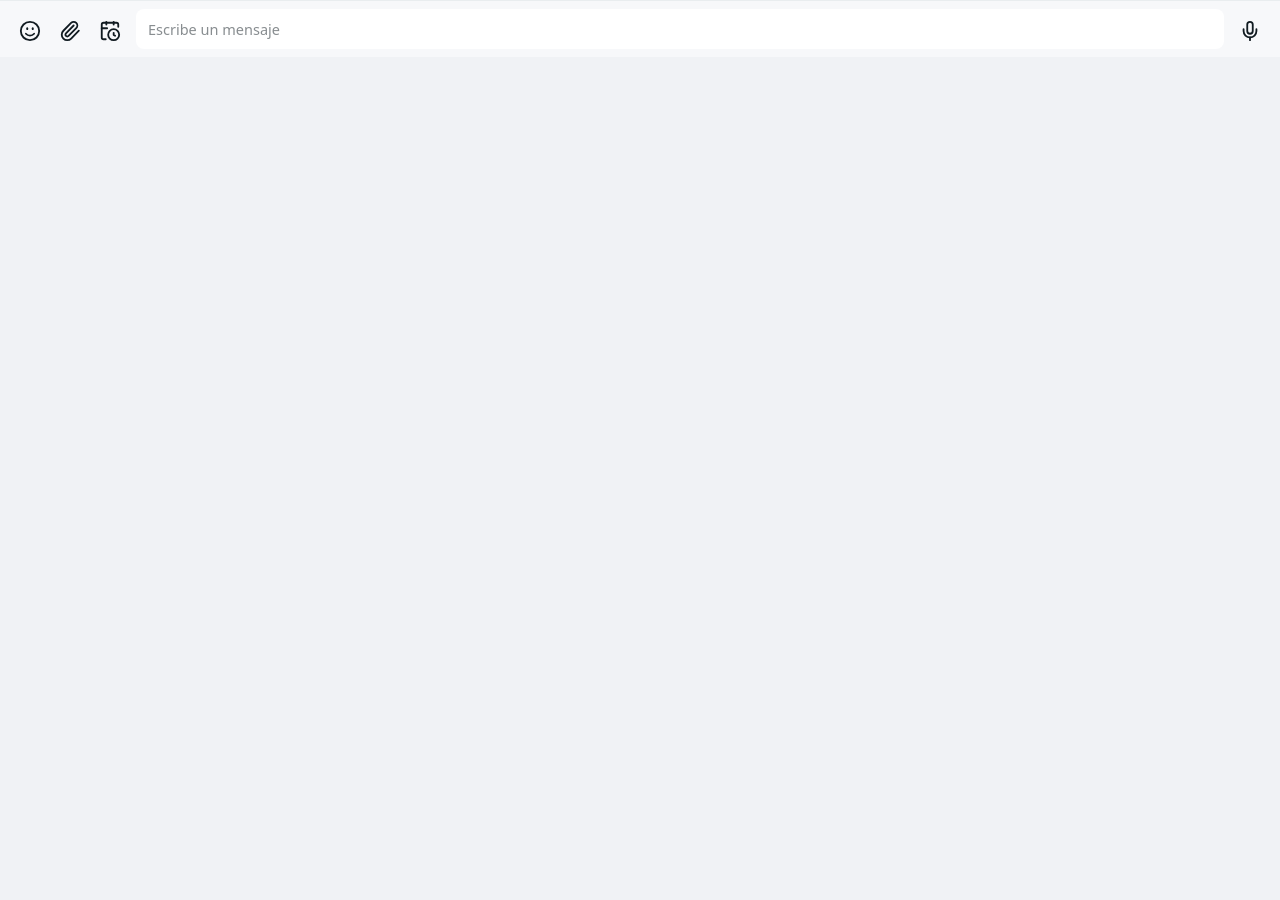
Test case: botón «Programar» del compositor › programa lo escrito: el diálogo trae el texto y el borrador se vacía al guardar
The width and height of the screenshot is (1280, 900).
Step 1. Type "Recuérdame mañana" into the text box with placeholder "Escribe un mensaje" → (680, 29), box x1=136 y1=9 x2=1224 y2=49
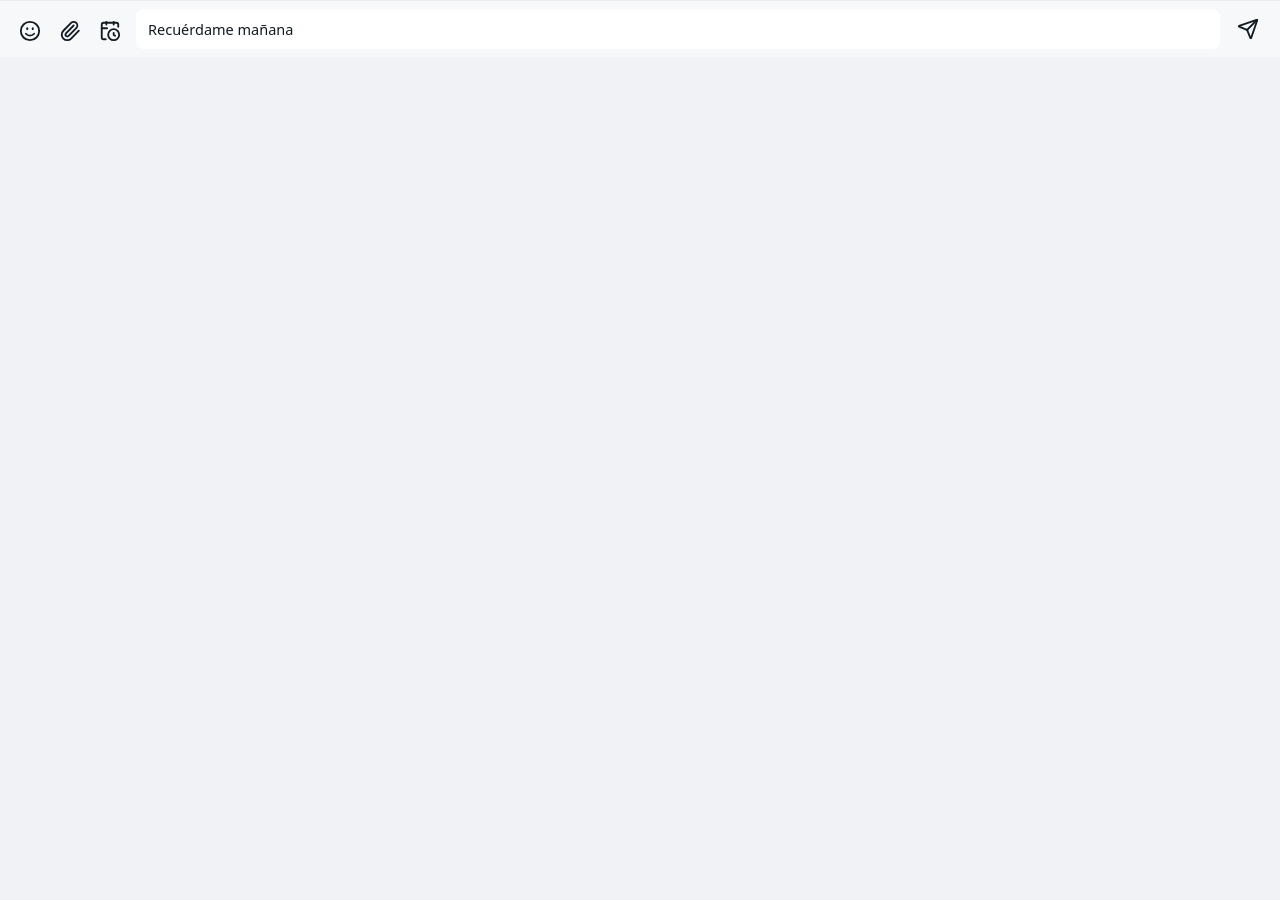
Step 2. Click the button named "Programar mensaje" → (110, 31), box x1=92 y1=13 x2=128 y2=49
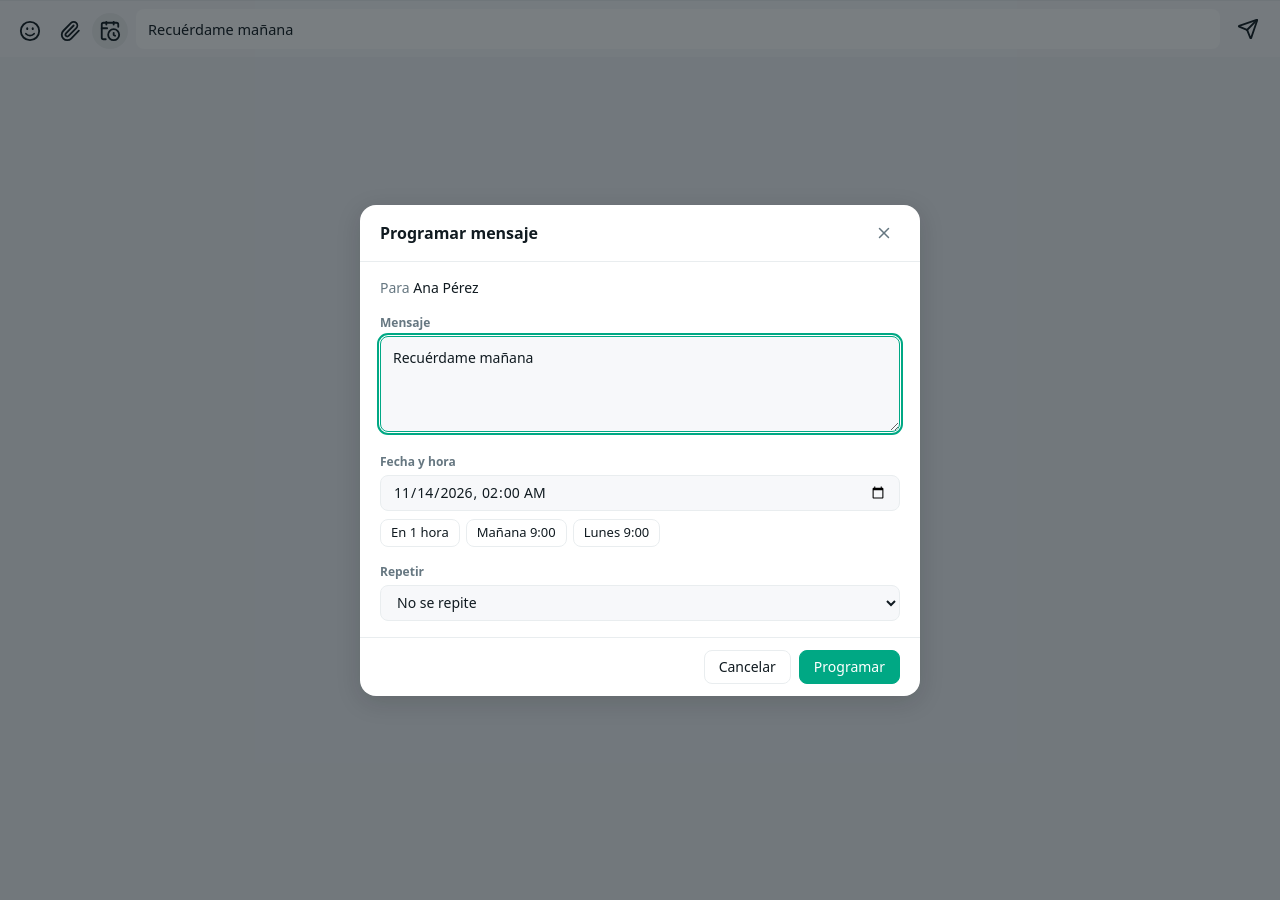
Check: the text box labelled "Mensaje" holds "Recuérdame mañana", box x1=380 y1=336 x2=900 y2=432
Step 3. Replace the text in the field labelled "Fecha y hora" with "2099-01-05T09:00" → (640, 492), box x1=380 y1=474 x2=900 y2=510
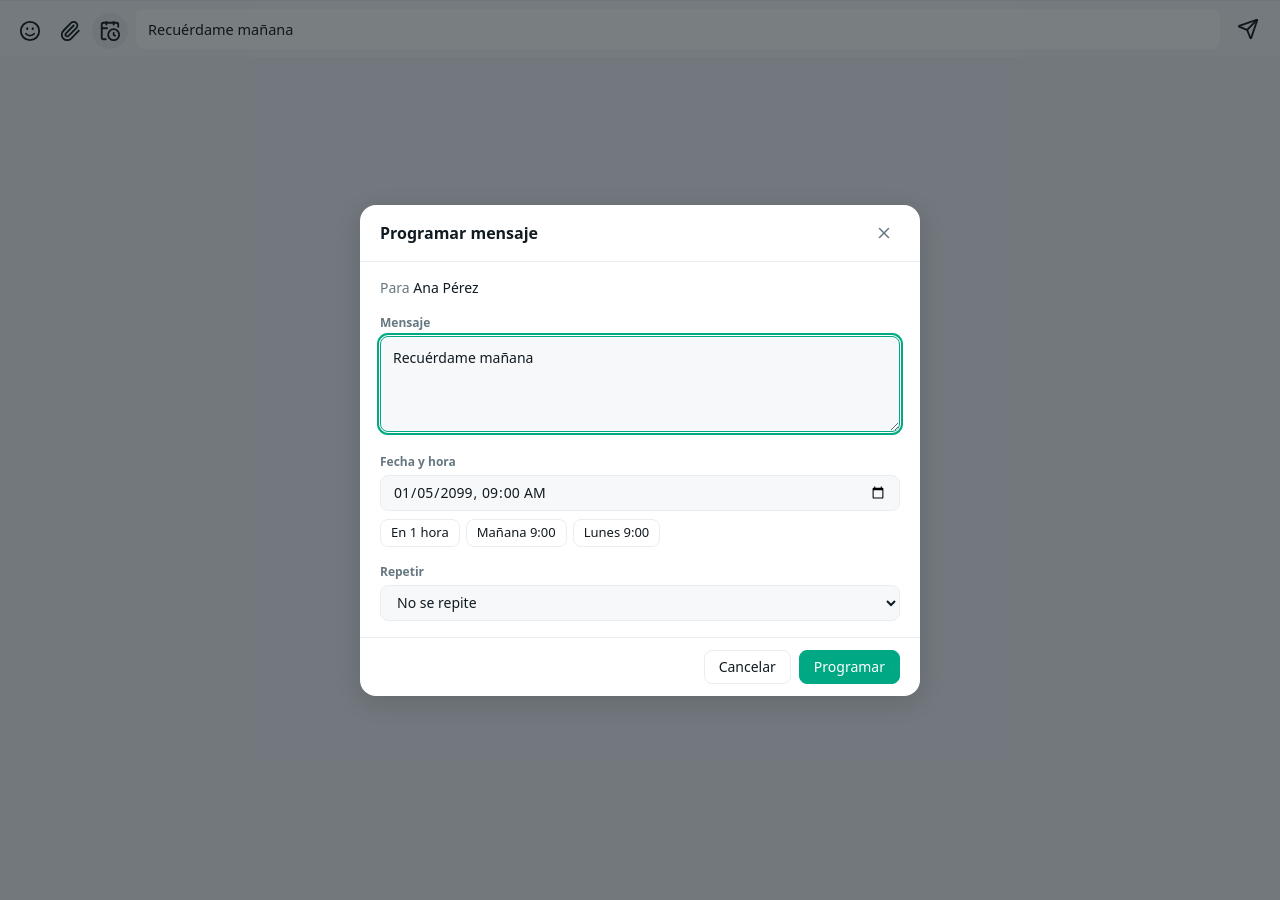
Step 4. Click the button "Programar" → (849, 666), box x1=799 y1=650 x2=900 y2=684
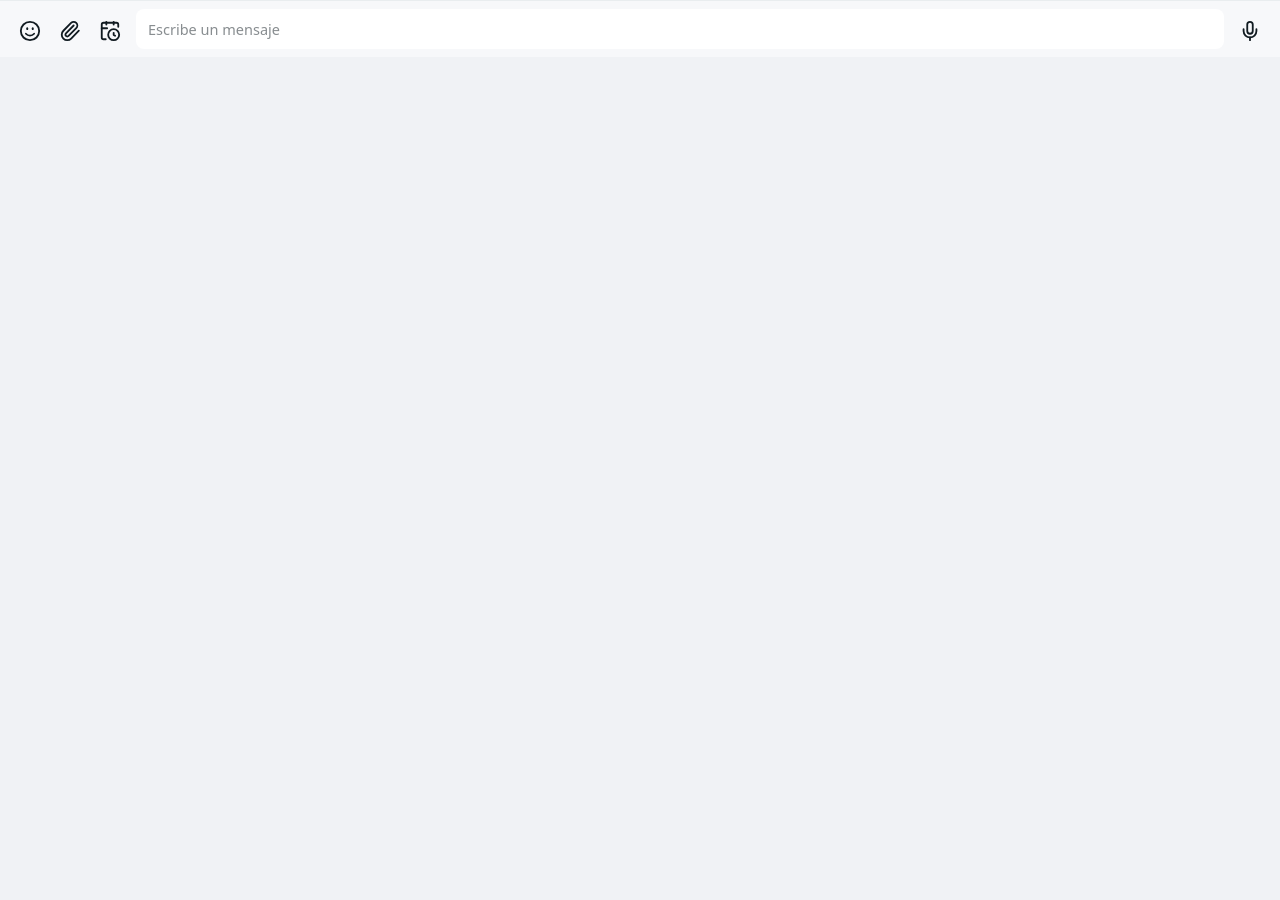
Check: the dialog is gone
Check: the text box with placeholder "Escribe un mensaje" is empty, box x1=136 y1=9 x2=1224 y2=49
